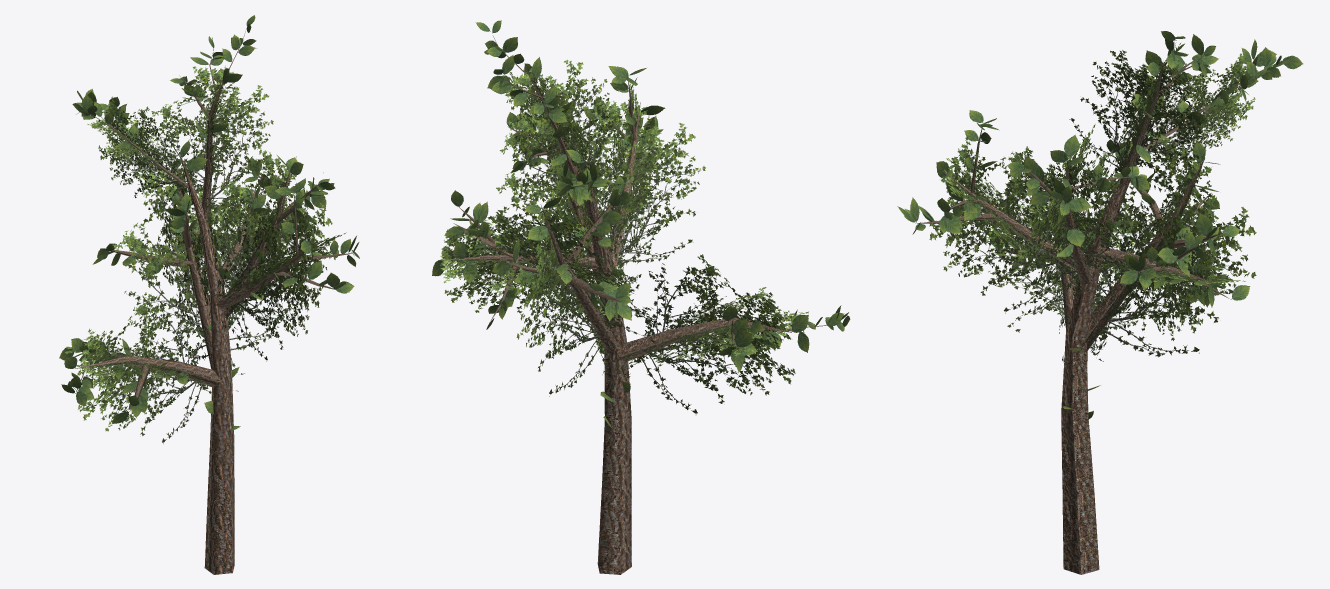
File: UDC_ParkTreeB.obj
The picture shows the model from 3 angles, left to right: view 1: azimuth 30°, elevation 25°; view 2: azimuth 150°, elevation 25°; view 3: azimuth 270°, elevation 25°; orthographic projection. The views are drawn at different scales.
Parts seen in each view (by area): view 1: UDC_ParkTreeB; view 2: UDC_ParkTreeB; view 3: UDC_ParkTreeB.
Part boxes in pixels (bbox=[...]): UDC_ParkTreeB: bbox=[59, 15, 359, 574]; UDC_ParkTreeB: bbox=[432, 20, 850, 574]; UDC_ParkTreeB: bbox=[897, 31, 1303, 574].
Bounding box in the file's own units: 1.99 × 2.89 × 1.95.
Materials: 3 (3 with a texture image).
